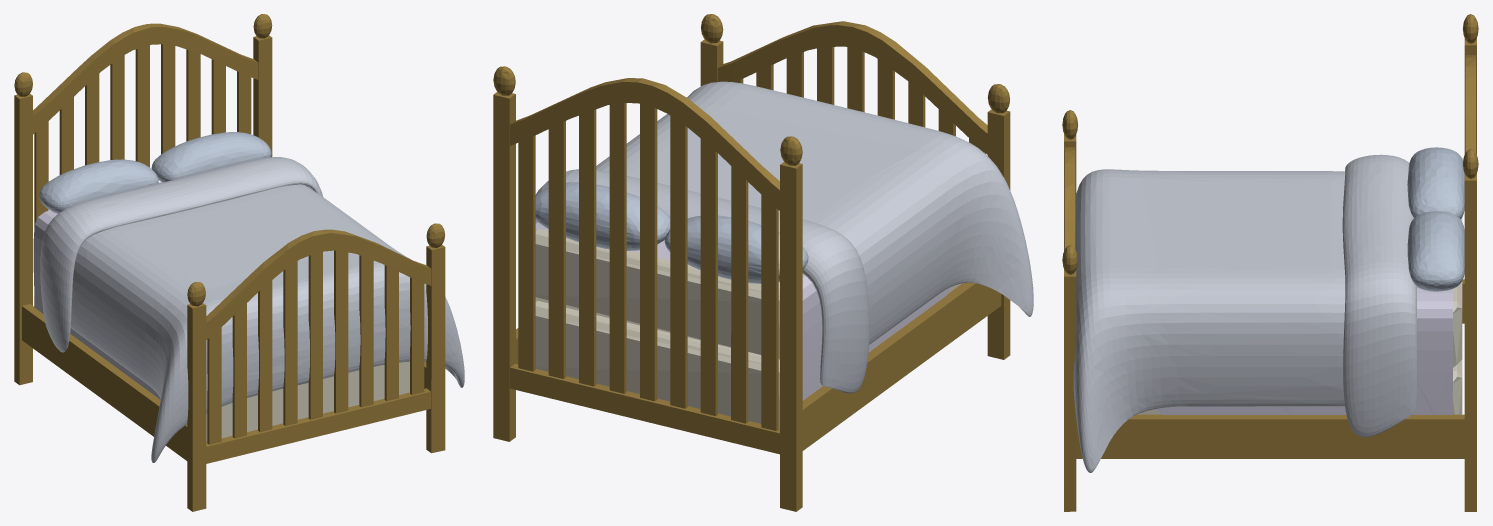
The model's file is sh-bs0-bed2.glb.
3 renders of one model, left to right at view 1: azimuth 30°, elevation 25°; view 2: azimuth 150°, elevation 25°; view 3: azimuth 270°, elevation 25°, orthographic. The views are drawn at different scales.
Parts seen in each view (by area): view 1: Cube, Plane, Cube.011_Cube.012, Cube.005_Cube.008, Plane.001; view 2: Cube, Plane, Cube.005_Cube.008, Cube.011_Cube.012, Plane.001; view 3: Plane, Cube, Cube.011_Cube.012, Plane.001, Cube.005_Cube.008.
Part boxes in pixels (<box>): Cube: <box>14,14,445,511</box>; Plane: <box>40,157,464,462</box>; Cube.011_Cube.012: <box>39,132,271,213</box>; Cube.005_Cube.008: <box>206,361,409,441</box>; Plane.001: <box>33,182,161,399</box>; Cube: <box>493,14,1010,511</box>; Plane: <box>535,81,1033,393</box>; Cube.005_Cube.008: <box>535,229,961,428</box>; Cube.011_Cube.012: <box>535,182,808,283</box>; Plane.001: <box>535,220,950,400</box>; Plane: <box>1073,154,1417,472</box>; Cube: <box>1062,14,1478,511</box>; Cube.011_Cube.012: <box>1407,147,1464,291</box>; Plane.001: <box>1156,287,1452,414</box>; Cube.005_Cube.008: <box>1137,217,1462,414</box>.
Bounding box in the file's own units: 1 × 0.9989 × 1.
